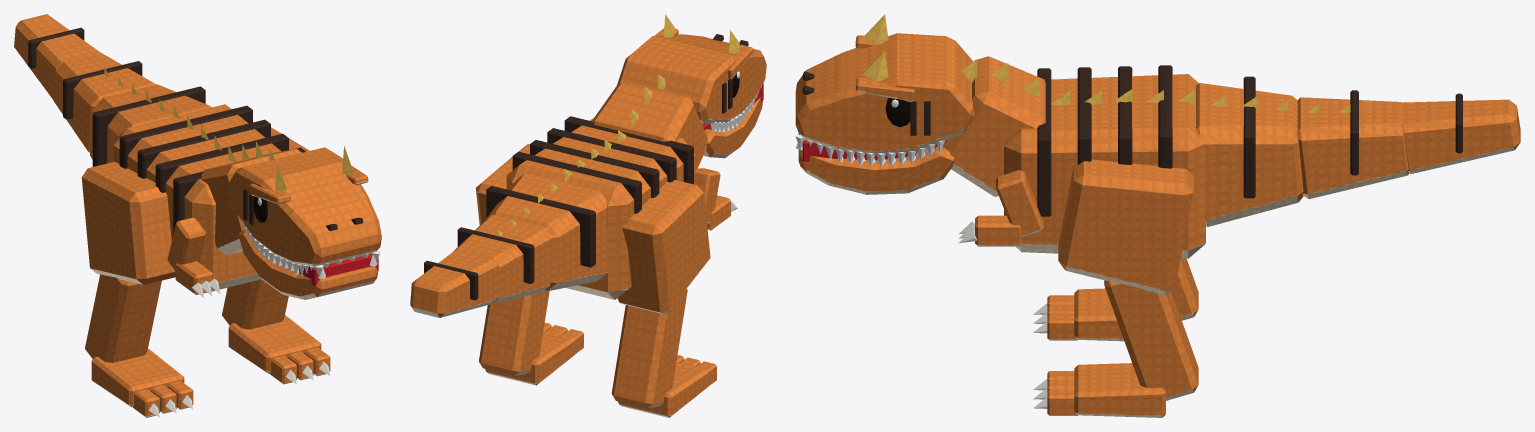
File: 15_Allosaurus.glb
The picture shows the model from 3 angles, left to right: view 1: azimuth 30°, elevation 25°; view 2: azimuth 150°, elevation 25°; view 3: azimuth 270°, elevation 25°; orthographic projection. The views are drawn at different scales.
Parts seen in each view (by area): view 1: 15_Allosaurus; view 2: 15_Allosaurus; view 3: 15_Allosaurus.
Part boxes in pixels (x1,y1,x2,y2): 15_Allosaurus: (14, 14, 381, 417); 15_Allosaurus: (410, 14, 766, 417); 15_Allosaurus: (795, 14, 1520, 417).
Size of the model in its own units: 4.58 by 6.72 by 13.21.
Materials: 1 (1 with a texture image).
